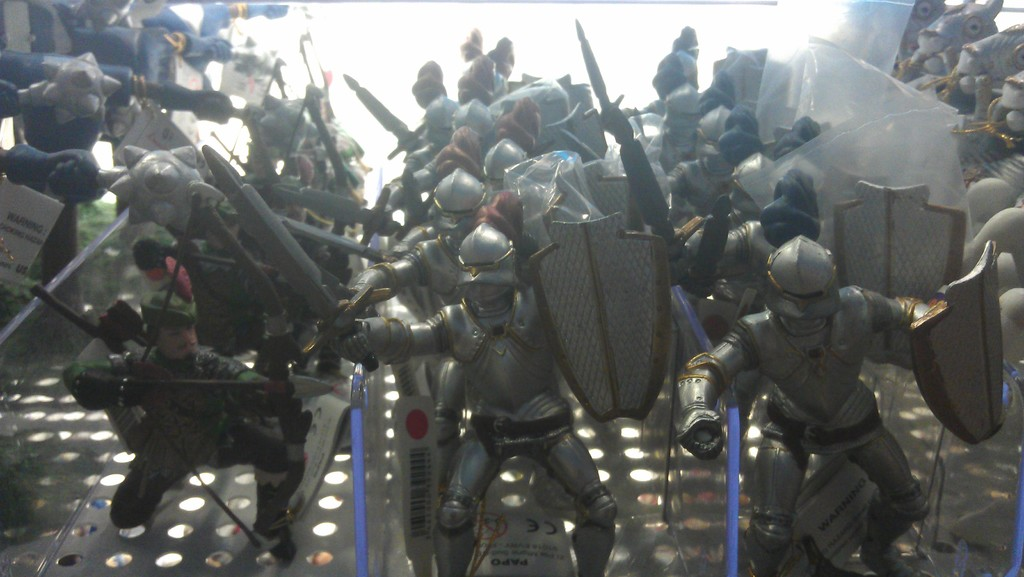Person: (32, 0, 1006, 577)
